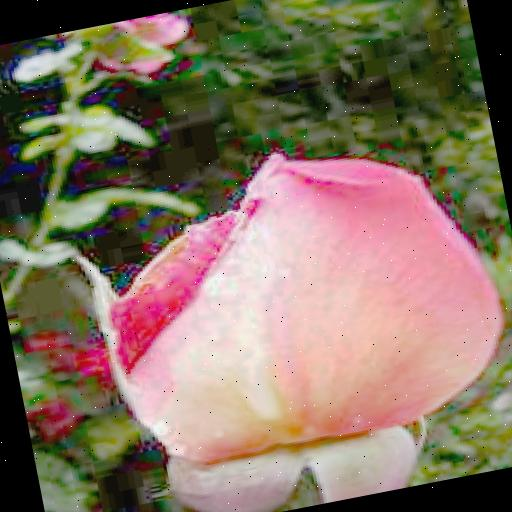rose: (81, 118, 512, 475)
